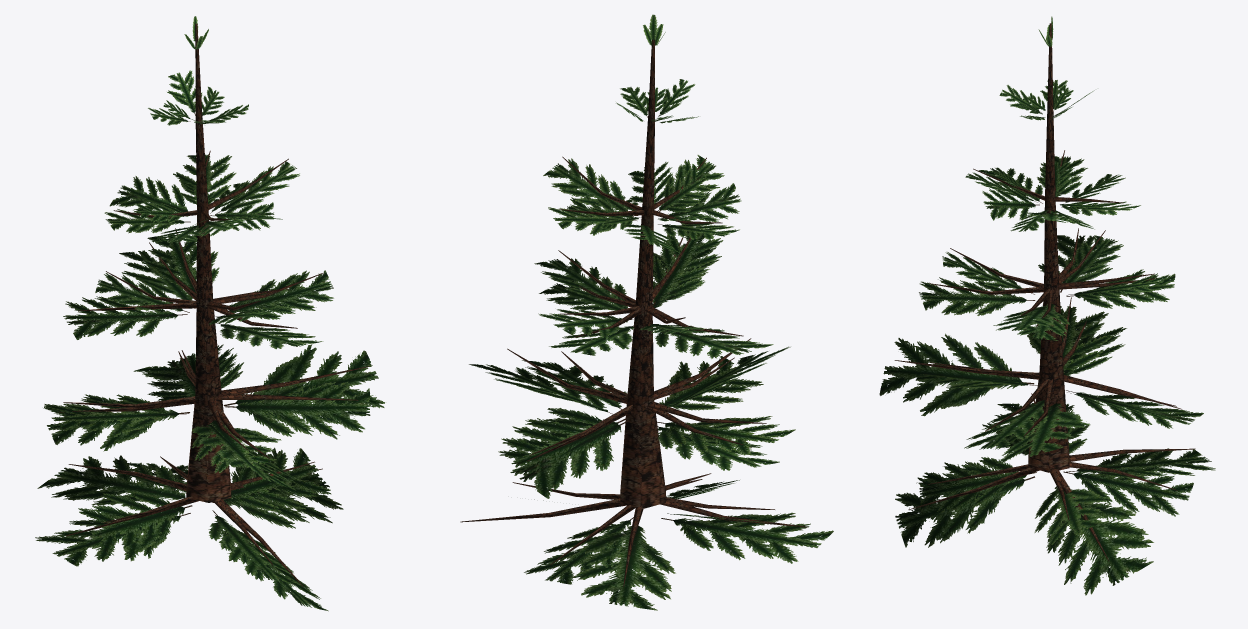
File: pine-dense-lite.glb
The picture shows the model from 3 angles, left to right: view 1: azimuth 30°, elevation 25°; view 2: azimuth 150°, elevation 25°; view 3: azimuth 270°, elevation 25°; orthographic projection. The views are drawn at different scales.
Parts seen in each view (by area): view 1: pine_dense_lite; view 2: pine_dense_lite; view 3: pine_dense_lite.
Boxes of the visible parts, left/top/right/bottom form: pine_dense_lite: left=35, top=16, right=384, bottom=611; pine_dense_lite: left=460, top=14, right=833, bottom=610; pine_dense_lite: left=879, top=16, right=1215, bottom=595.
Size of the model in its own units: 9.66 by 15.34 by 9.64.
Materials: 1 (1 with a texture image).
